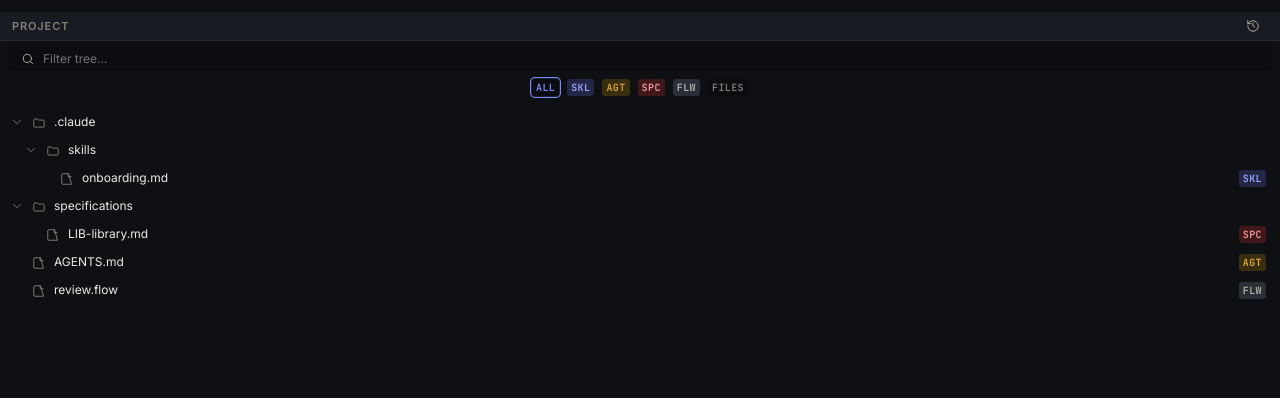
Test: Library filesystem tree › hides artifact-less folders by default and reveals them under All files
Check: the text "AGENTS.md" is shown, box [54,254,124,269]
Check: the text "misc" is not shown
Click the radio button labelled "Files" at (728, 88), box [706,77,750,98]
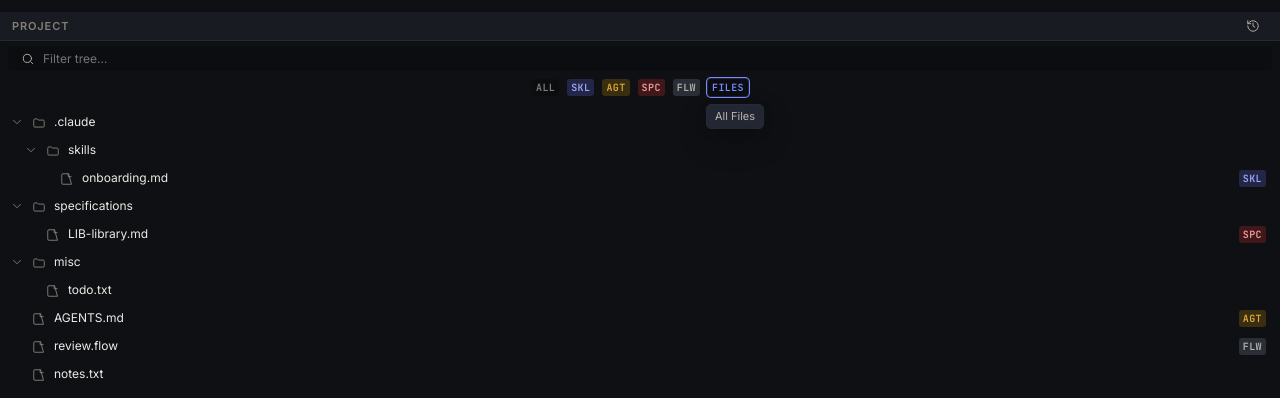
Check: the text "misc" is shown, box [54,254,81,269]
Check: the text "todo.txt" is shown, box [68,282,112,297]
